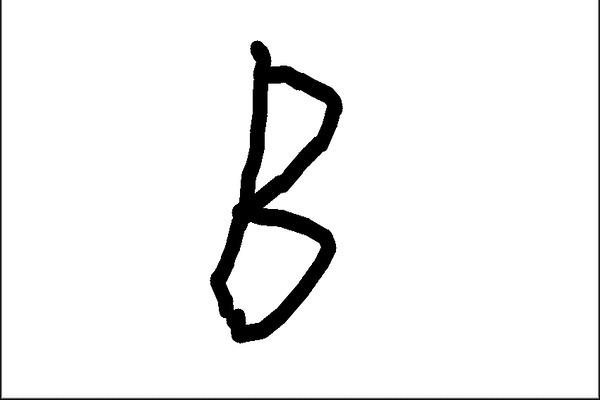B: (202, 30, 352, 357)
